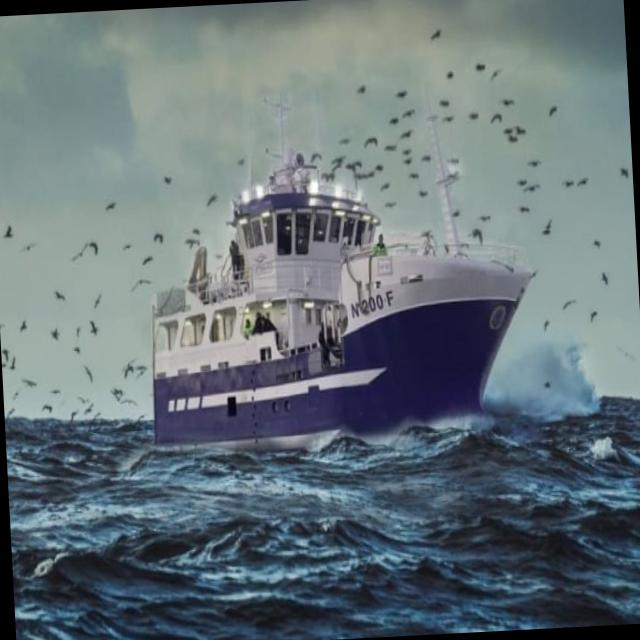boat: (120, 58, 556, 503)
